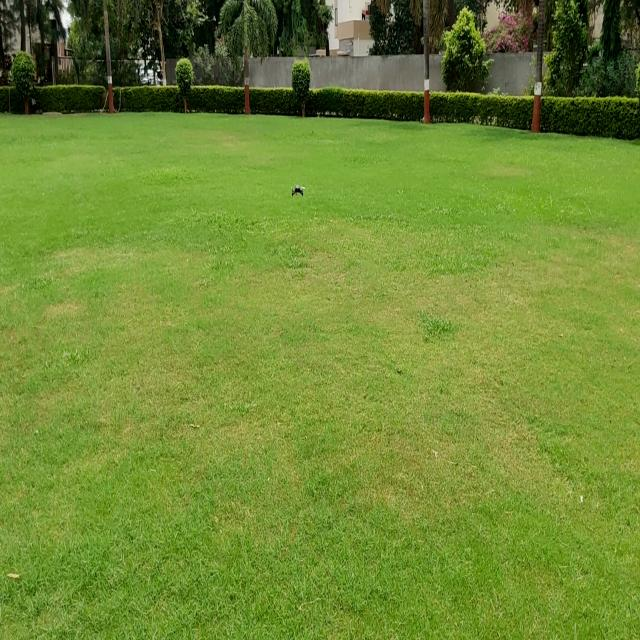drone: (285, 174, 312, 207)
